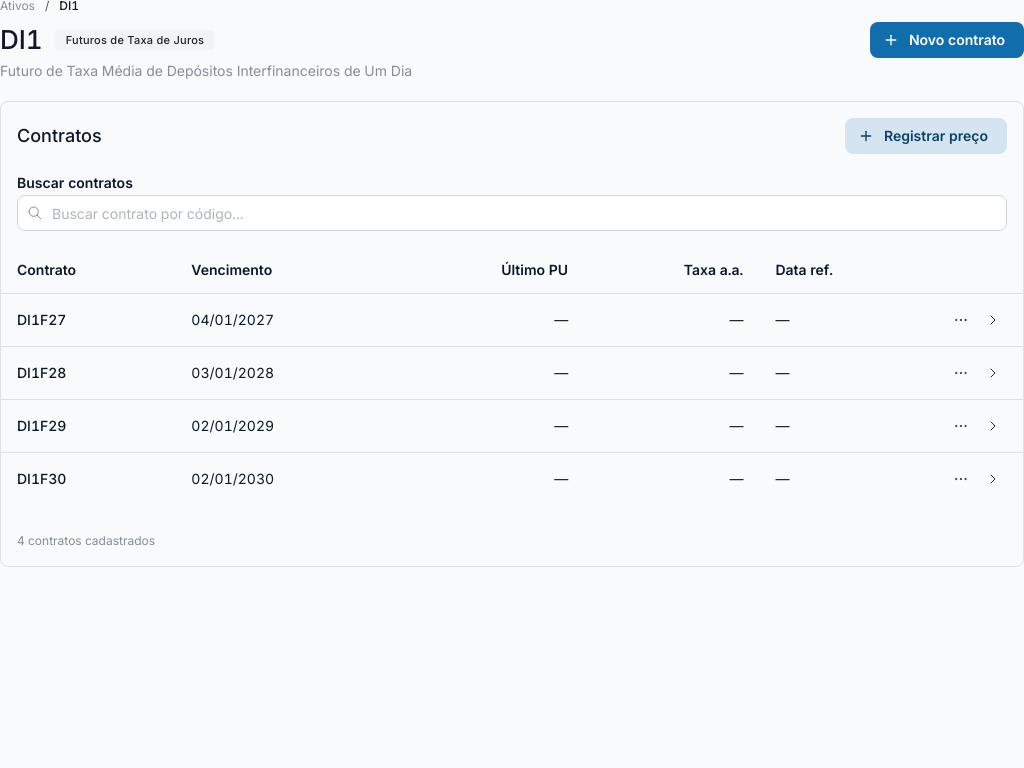
Scenario: Ativos: preços na lista de contratos (§11.2, §5, OQ-48 item 1) › §11.2 "Registrar preço" above the list asks for the contract, then saves its price
The image size is (1024, 768).
Expected: the heading "DI1" is shown, [0,22,43,57]
Expected: the table named "Contratos" is shown, [1,247,1023,505]
Click the button "Registrar preço". click: [926, 136]
box: [845,118,1007,154]
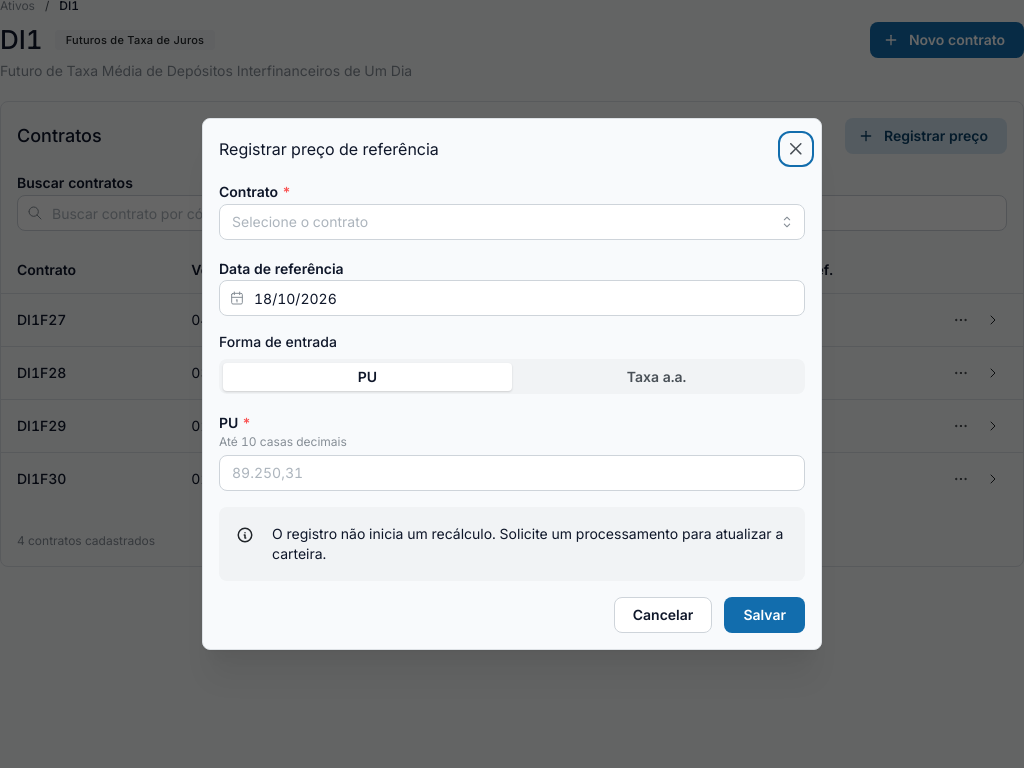
Expected: the dropdown labelled "Contrato" is empty
Expected: the field labelled "Data de referência" holds "18/10/2026", [219,280,805,316]
Click the dropdown labelled "Contrato". click: [512, 222]
box: [219,204,805,240]
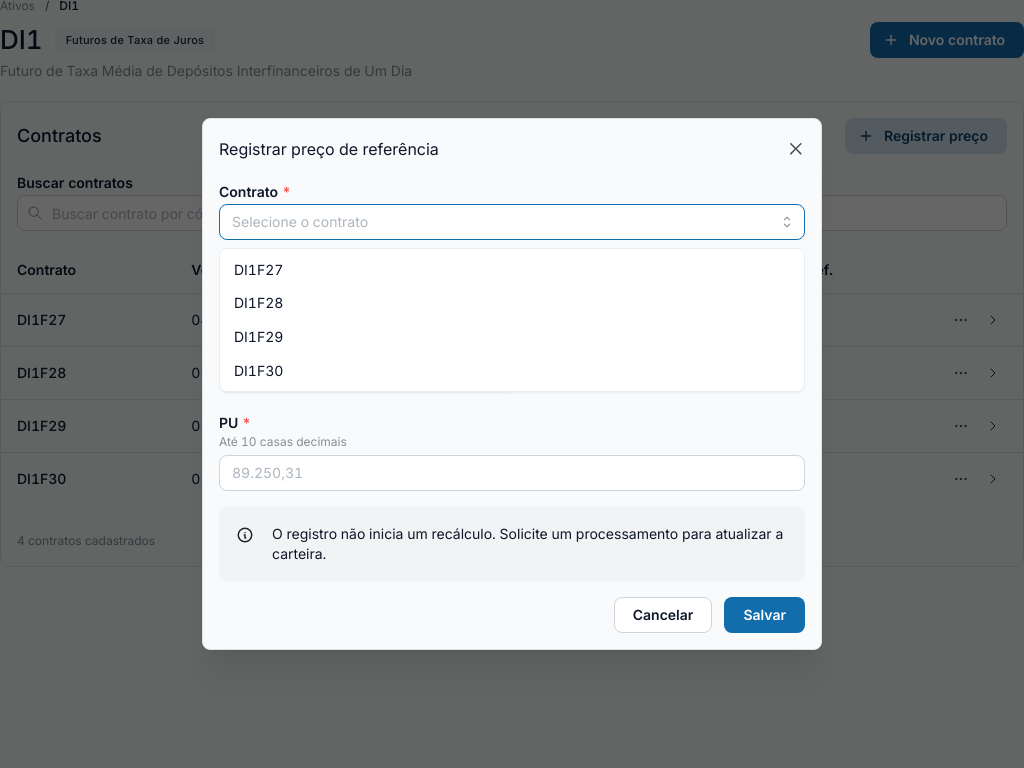
Click the option "DI1F29". click: [259, 336]
box: [234,328,283,345]
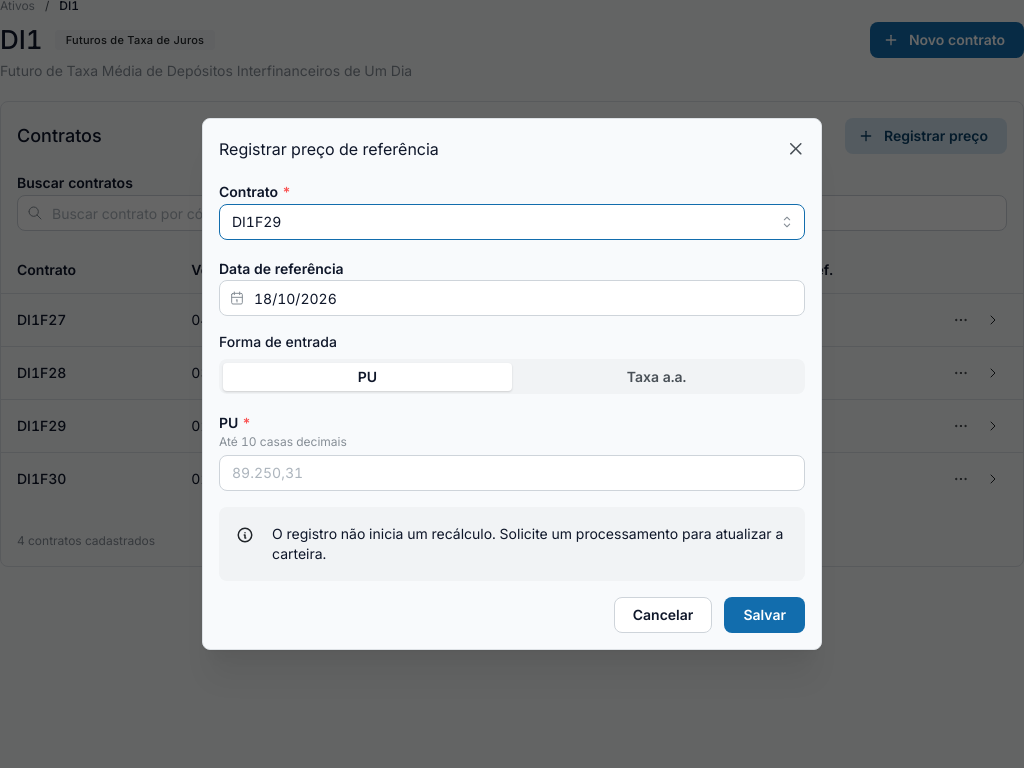
Type "80.300,00" into the field labelled "PU". click: [512, 473]
box: [219,455,805,491]
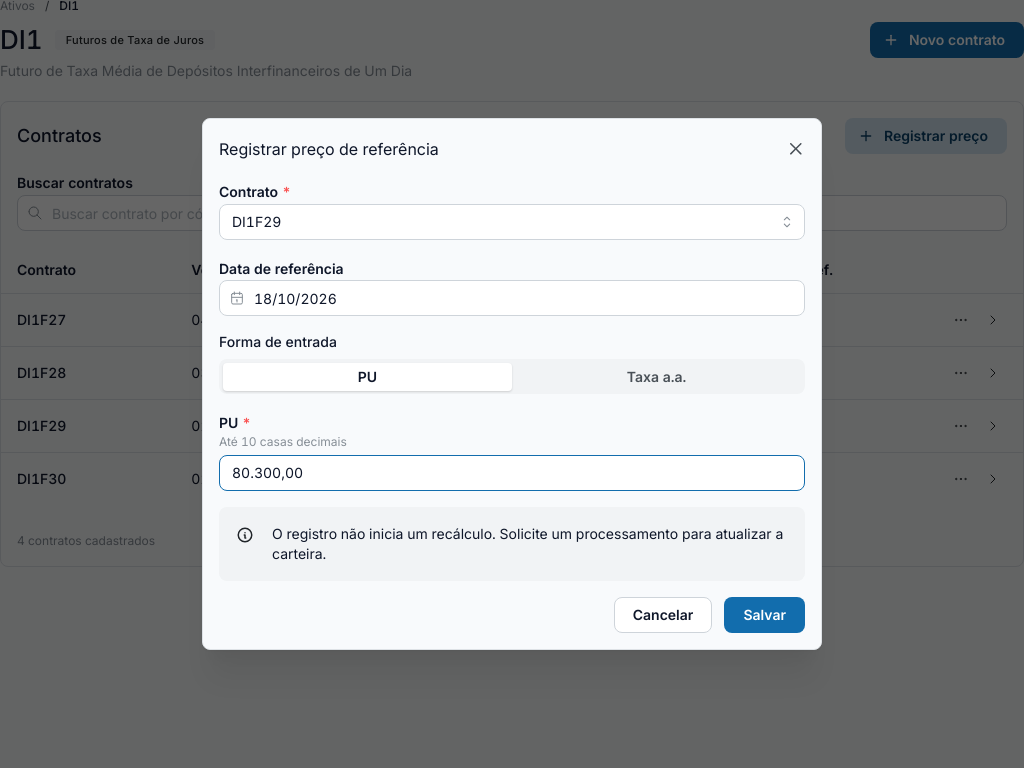
Click the button "Salvar". click: [765, 615]
box: [724,597,805,633]
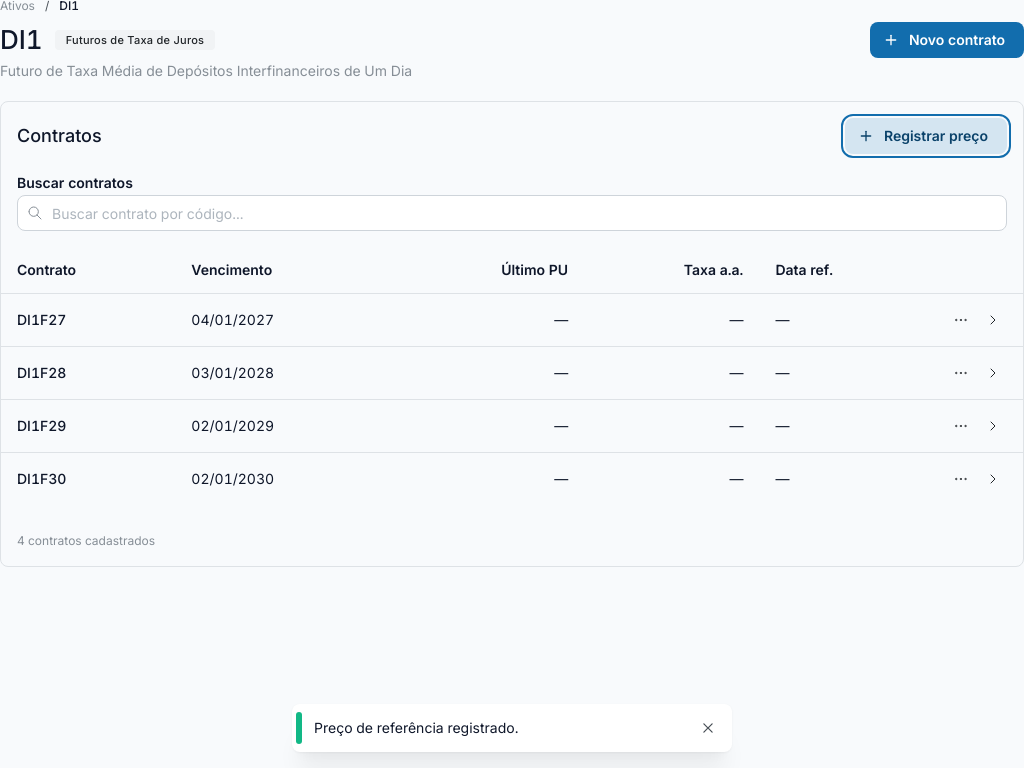
Expected: the heading "Registrar preço de referência" is gone
